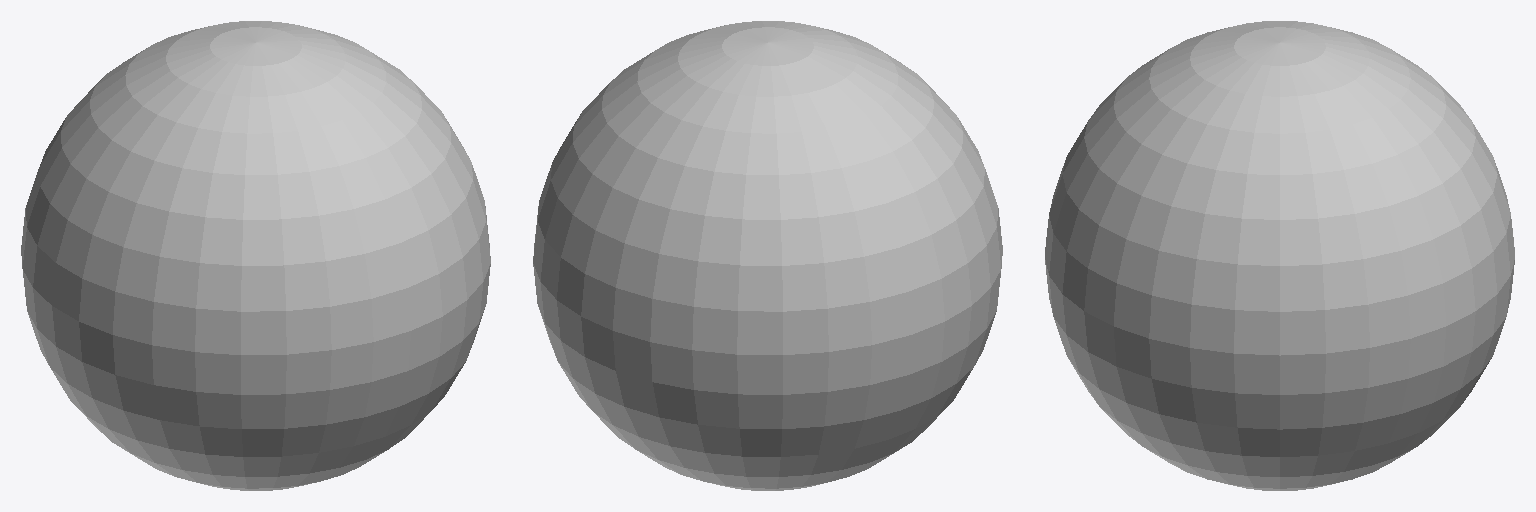
The model's file is mercury.obj.
3 views of the same model, side by side, from view 1: azimuth 30°, elevation 25°; view 2: azimuth 150°, elevation 25°; view 3: azimuth 270°, elevation 25° (orthographic).
Visible parts, largest first — view 1: Sphere; view 2: Sphere; view 3: Sphere.
Part boxes in pixels (x1,y1,x2,y2): Sphere: (21, 21, 490, 490); Sphere: (533, 21, 1002, 490); Sphere: (1045, 21, 1514, 490).
Bounding box in the file's own units: 0.6645 × 0.6645 × 0.6645.